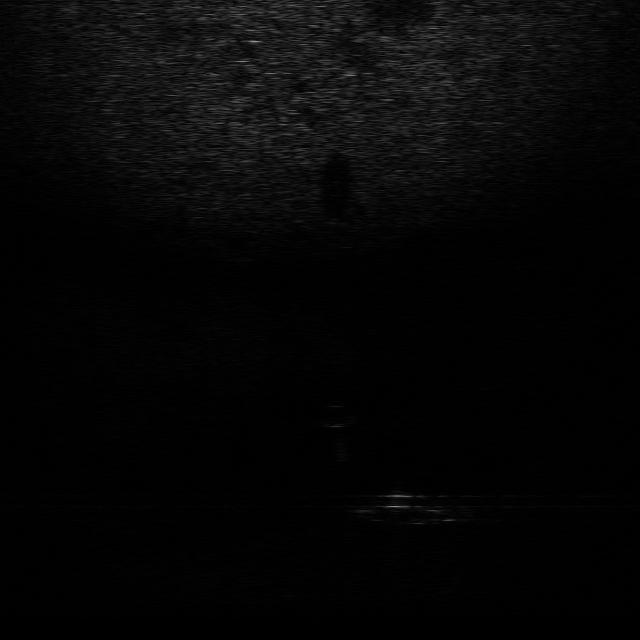ball: (312, 400, 362, 431)
tyre: (349, 488, 465, 524)
